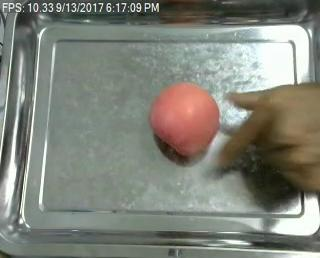apple: (150, 82, 220, 155)
